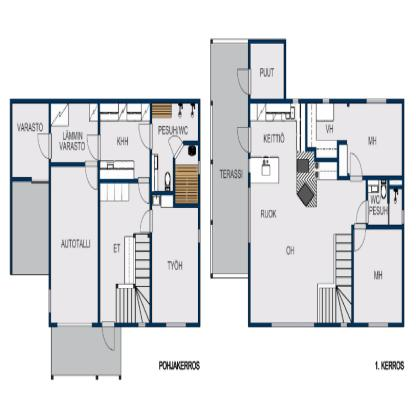door: (136, 124, 154, 152), (36, 130, 53, 158), (102, 320, 116, 354), (236, 66, 252, 95), (349, 150, 363, 183), (353, 198, 370, 225), (352, 224, 367, 254), (137, 176, 151, 206), (137, 208, 153, 234), (236, 127, 252, 152), (85, 135, 102, 158), (85, 163, 98, 193), (168, 133, 181, 160)
window: (56, 320, 92, 328), (272, 323, 314, 328), (166, 321, 186, 330), (31, 177, 48, 185), (368, 322, 388, 328), (249, 188, 251, 244), (366, 99, 387, 102), (49, 289, 51, 314), (322, 97, 330, 103), (138, 320, 145, 326), (198, 228, 200, 247), (401, 210, 404, 221), (341, 323, 347, 328), (292, 98, 299, 102), (198, 162, 200, 174)
zone: (250, 102, 366, 323), (211, 44, 247, 274), (51, 164, 97, 322), (307, 102, 402, 176), (101, 181, 149, 320), (153, 197, 198, 323), (354, 225, 401, 323), (152, 101, 198, 188), (100, 104, 149, 176), (11, 182, 48, 273), (51, 327, 119, 373), (13, 104, 48, 178), (51, 105, 97, 161), (250, 42, 284, 97), (170, 145, 199, 204)
